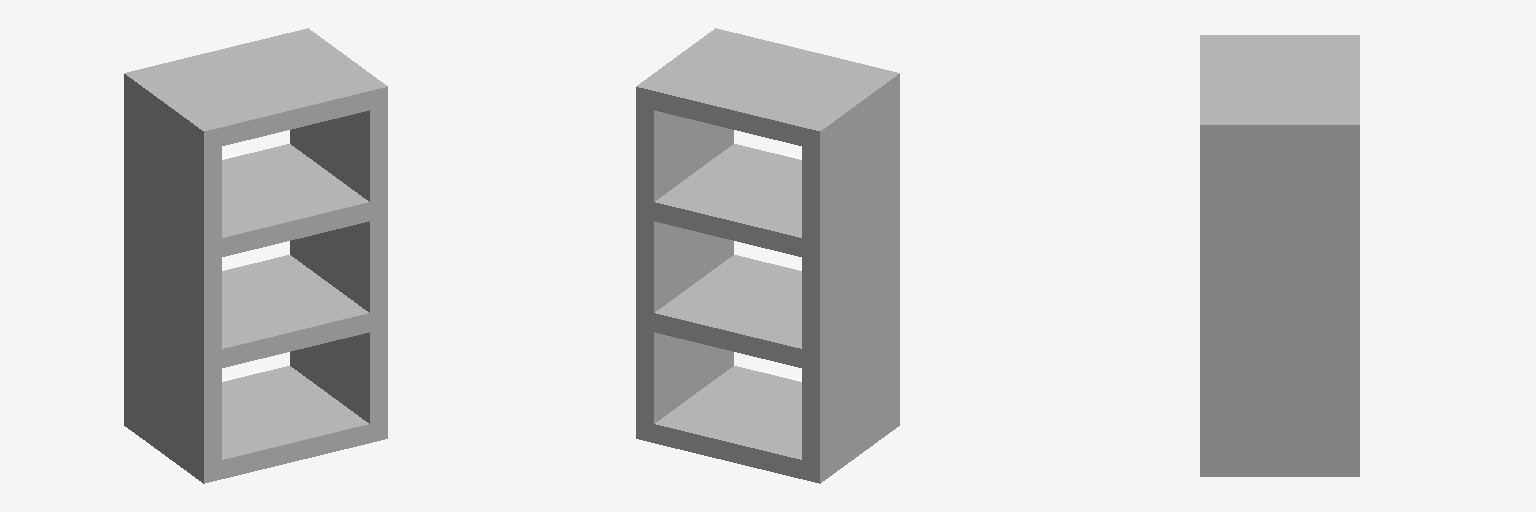
The model's file is BookshelveSmall.obj.
3 views of the same model, side by side, from view 1: azimuth 30°, elevation 25°; view 2: azimuth 150°, elevation 25°; view 3: azimuth 270°, elevation 25° (orthographic).
Visible parts, largest first — view 1: object_1; view 2: object_1; view 3: object_1.
Boxes of the visible parts, <box> form: object_1: <box>124,28,387,483</box>; object_1: <box>636,28,899,483</box>; object_1: <box>1200,35,1359,476</box>.
Bounding box in the file's own units: 40 × 73 × 30.